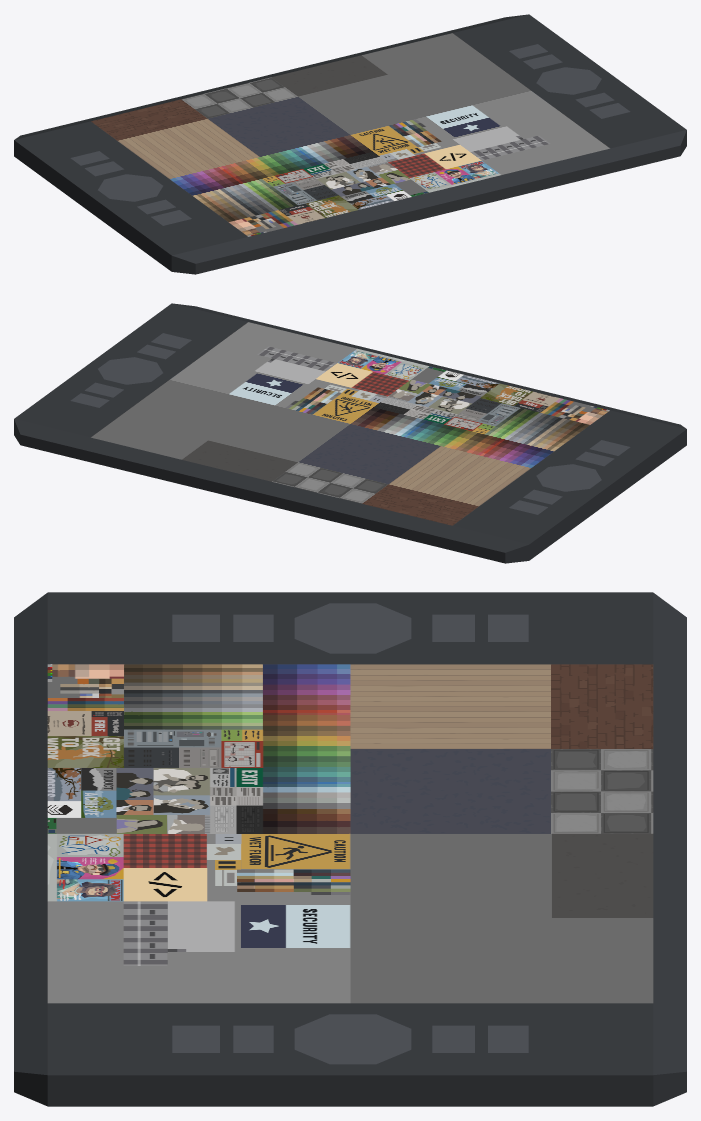
File: SM_Prop_GraphicsTablet_02.glb
3 views of the same model, one above another, from view 1: azimuth 30°, elevation 25°; view 2: azimuth 150°, elevation 25°; view 3: azimuth 270°, elevation 25° (orthographic). The views are drawn at different scales.
Visible parts, largest first — view 1: SM_Prop_GraphicsTablet_02; view 2: SM_Prop_GraphicsTablet_02; view 3: SM_Prop_GraphicsTablet_02.
Part boxes in pixels (x1,y1,x2,y2): SM_Prop_GraphicsTablet_02: (14, 14, 686, 274); SM_Prop_GraphicsTablet_02: (14, 303, 686, 563); SM_Prop_GraphicsTablet_02: (14, 592, 686, 1106).
Size of the model in its own units: 0.9674 by 0.0293 by 0.57.
1 material, 1 textured.
